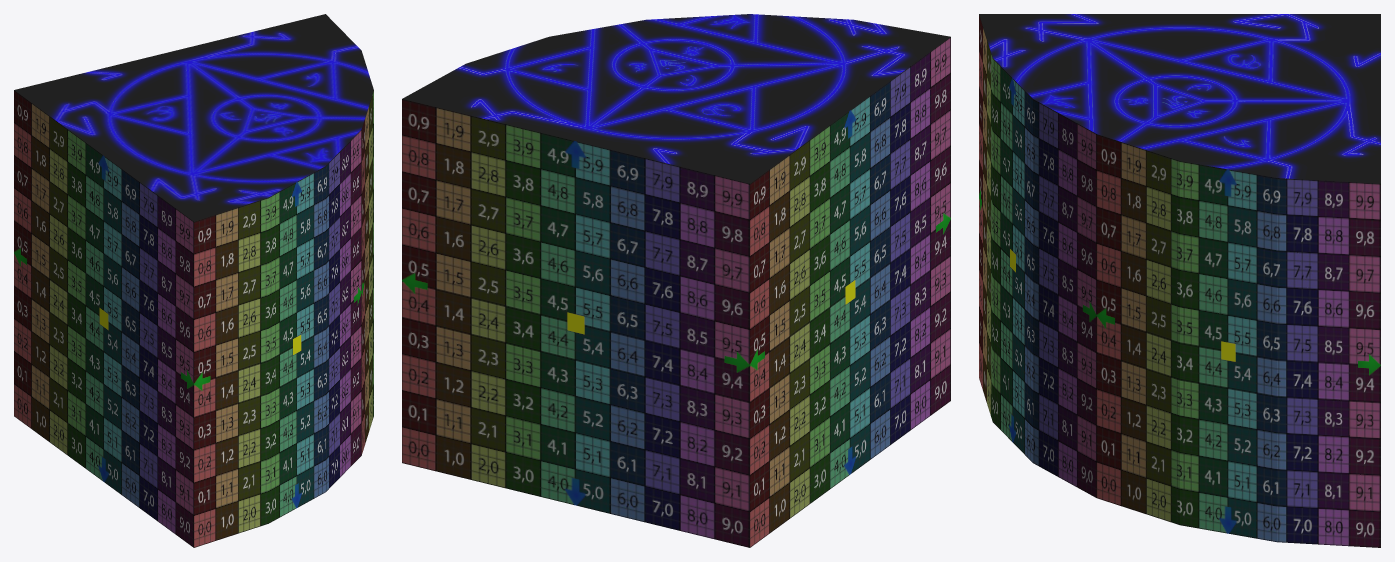
File: BlockExternalCorner.fbx
The picture shows the model from 3 angles, left to right: view 1: azimuth 30°, elevation 25°; view 2: azimuth 150°, elevation 25°; view 3: azimuth 270°, elevation 25°; orthographic projection. The views are drawn at different scales.
Parts seen in each view (by area): view 1: BlockExternalCorner; view 2: BlockExternalCorner; view 3: BlockExternalCorner.
Boxes of the visible parts, <box> form: BlockExternalCorner: <box>14,14,373,547</box>; BlockExternalCorner: <box>402,14,950,547</box>; BlockExternalCorner: <box>979,14,1380,547</box>.
Bounding box in the file's own units: 1 × 1 × 1.
